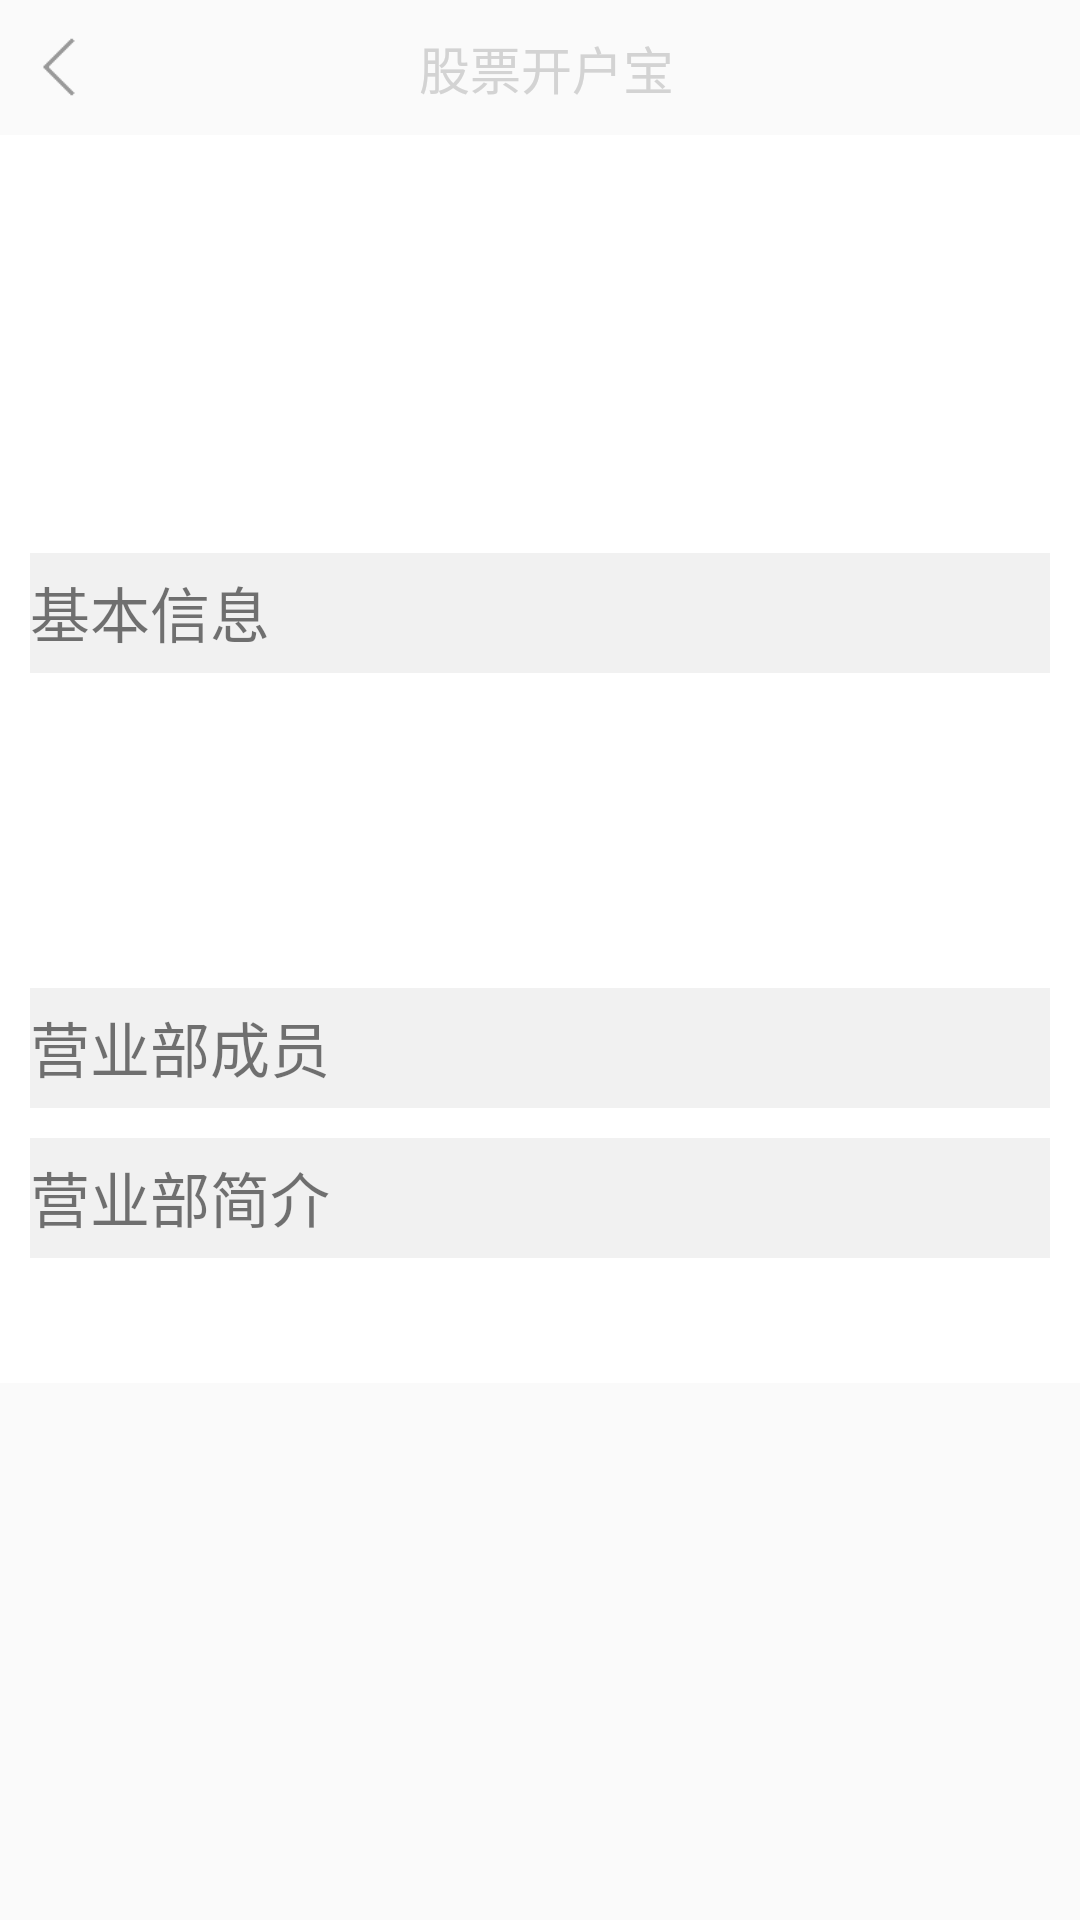

Screen size 1080 × 1920. Icon name, then its center in pixels as point (x, y):
arrow: point (59, 67)
